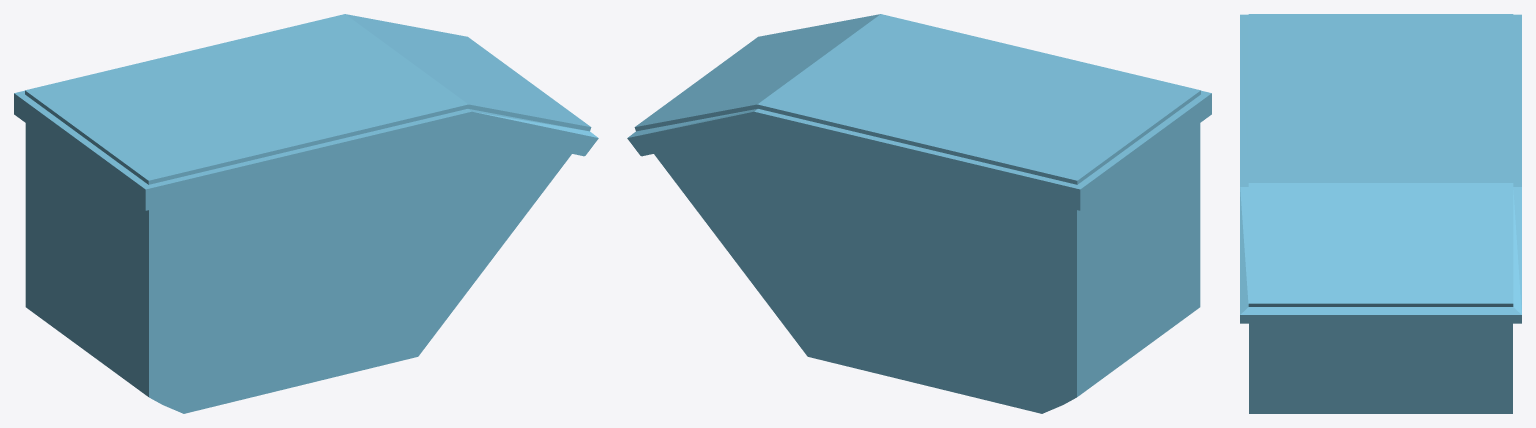
3 views of the same model, side by side, from view 1: azimuth 30°, elevation 25°; view 2: azimuth 150°, elevation 25°; view 3: azimuth 270°, elevation 25° (orthographic). The views are drawn at different scales.
Visible parts, largest first — view 1: Cube.4; view 2: Cube.4; view 3: Cube.4.
Part boxes in pixels (x1,y1,x2,y2): Cube.4: [14, 14, 598, 413]; Cube.4: [627, 14, 1211, 413]; Cube.4: [1240, 14, 1521, 413].
Bounding box in the file's own units: 394 × 201 × 198.
